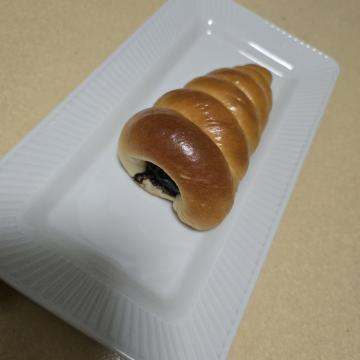cream horn: (47, 75, 251, 263)
